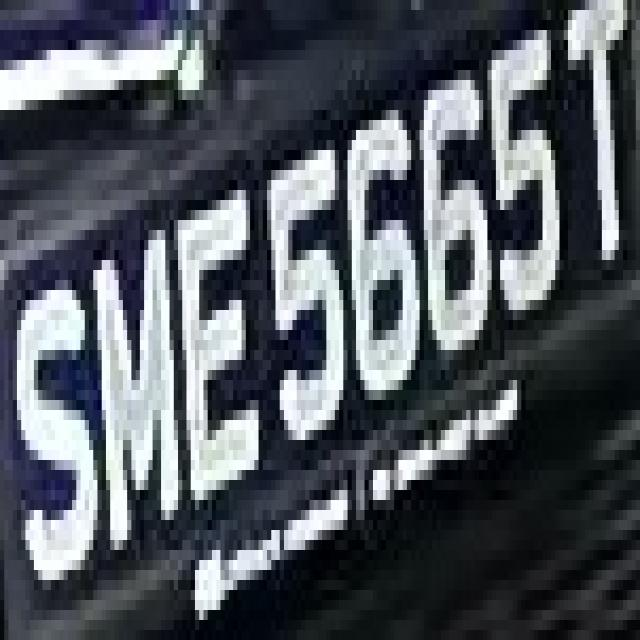5: (255, 110, 348, 470), (483, 30, 568, 350)
6: (399, 100, 500, 400), (331, 120, 424, 420)
E: (186, 140, 263, 540)
M: (93, 210, 178, 570)
S: (8, 250, 98, 620)
T: (564, 10, 636, 300)
